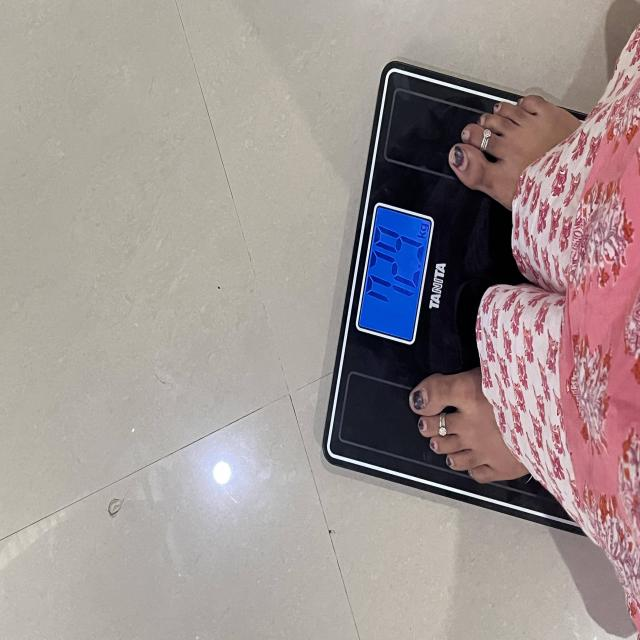ws: (353, 202, 436, 349)
